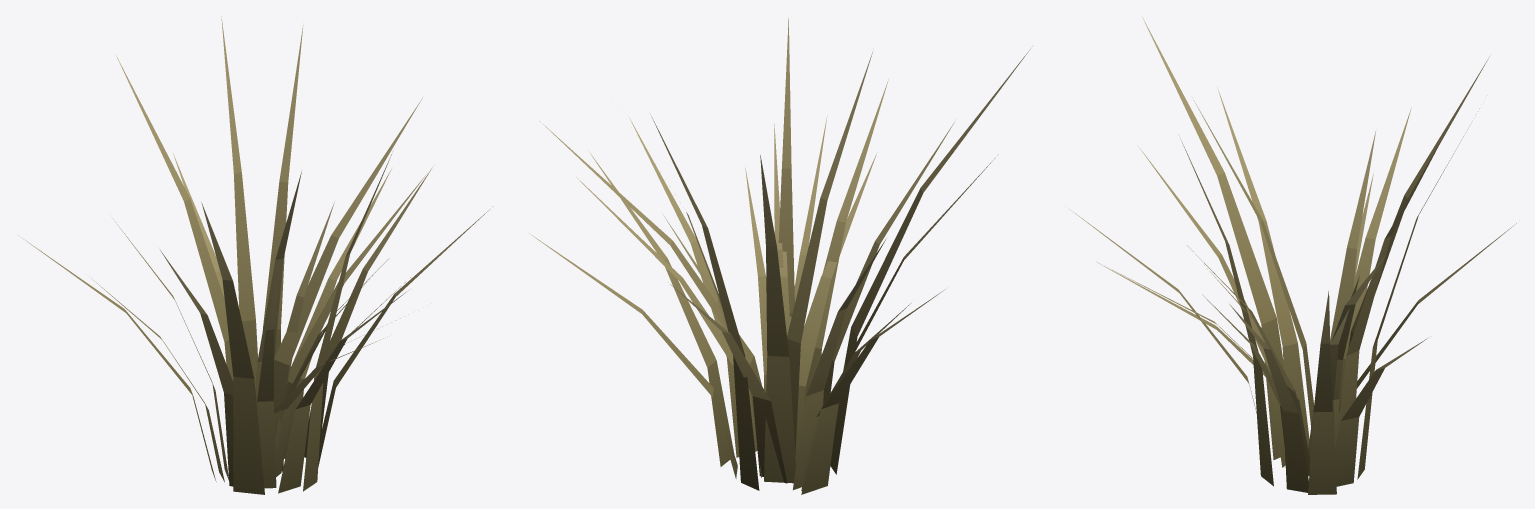
Rendered from grass_dry_03.glb.
3 views of the same model, side by side, from view 1: azimuth 30°, elevation 25°; view 2: azimuth 150°, elevation 25°; view 3: azimuth 270°, elevation 25° (orthographic). The views are drawn at different scales.
Visible parts, largest first — view 1: grass_dry_03; view 2: grass_dry_03; view 3: grass_dry_03.
Part boxes in pixels (x1,y1,x2,y2): grass_dry_03: [18, 16, 493, 494]; grass_dry_03: [529, 18, 1032, 494]; grass_dry_03: [1069, 18, 1516, 494].
Size of the model in its own units: 1.16 by 1.09 by 1.14.
